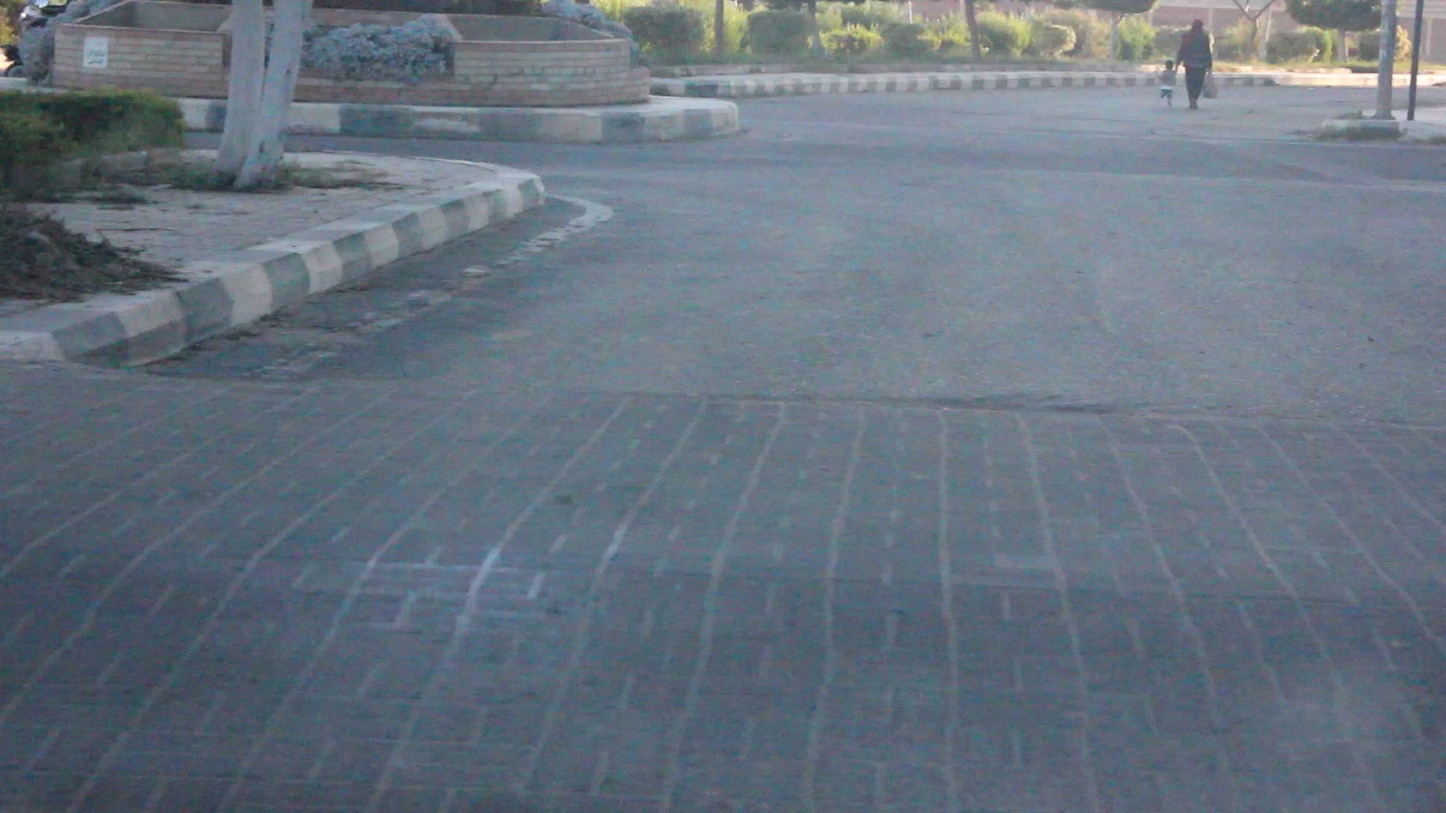Bump: (13, 367, 1446, 813)
